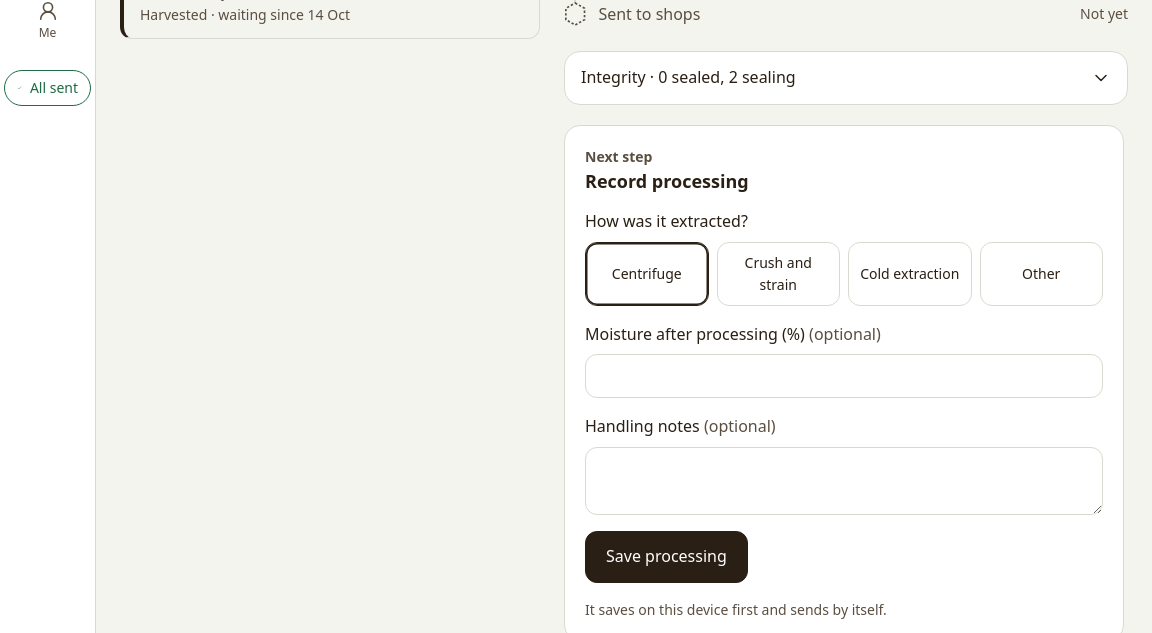
The next step, as the server allows it › an operator records processing, and the record names her
The image size is (1152, 633).
(page scrolled)
Expected: the heading "Record processing" is shown, x1=585 y1=169 x2=749 y2=193
Click the radio button labelled "Crush and strain" at (778, 274), box x1=716 y1=242 x2=840 y2=306
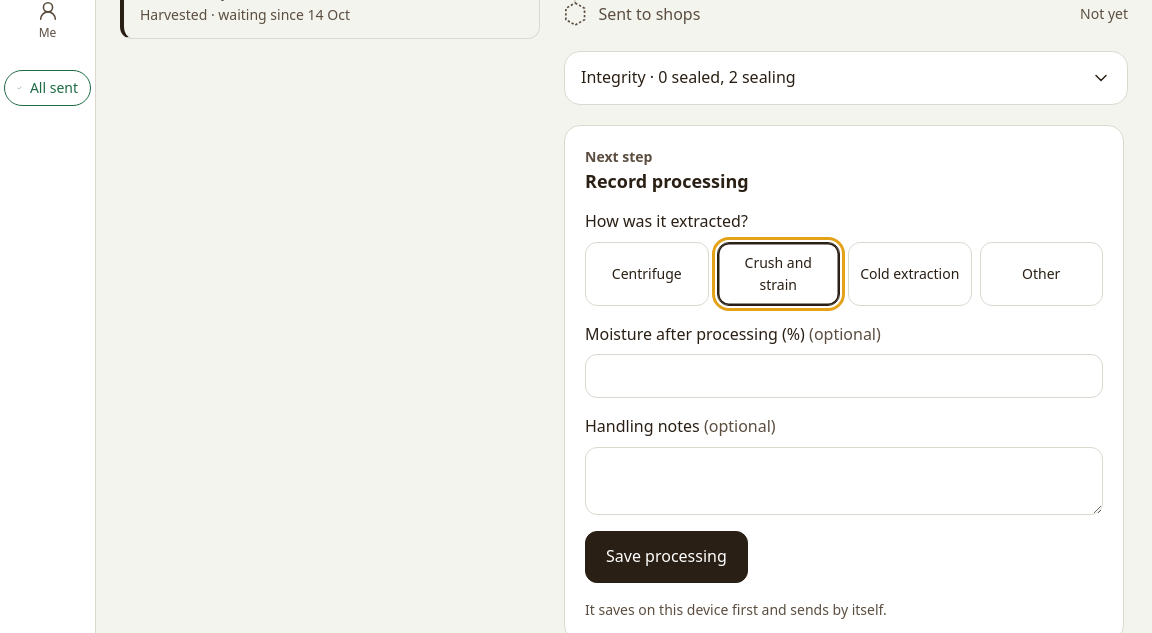
Type "17.8" into the field labelled "Moisture after processing (%) (optional)" at (844, 376), box x1=585 y1=354 x2=1103 y2=398
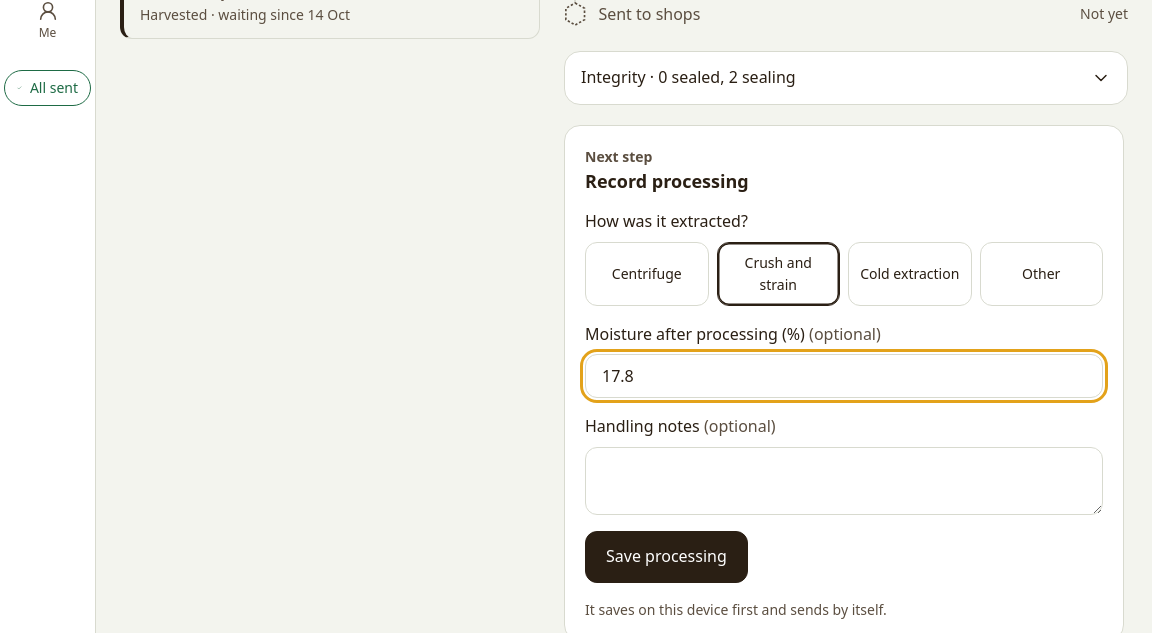
Type "Strained twice" into the text box labelled "Handling notes (optional)" at (844, 481), box x1=585 y1=447 x2=1103 y2=515
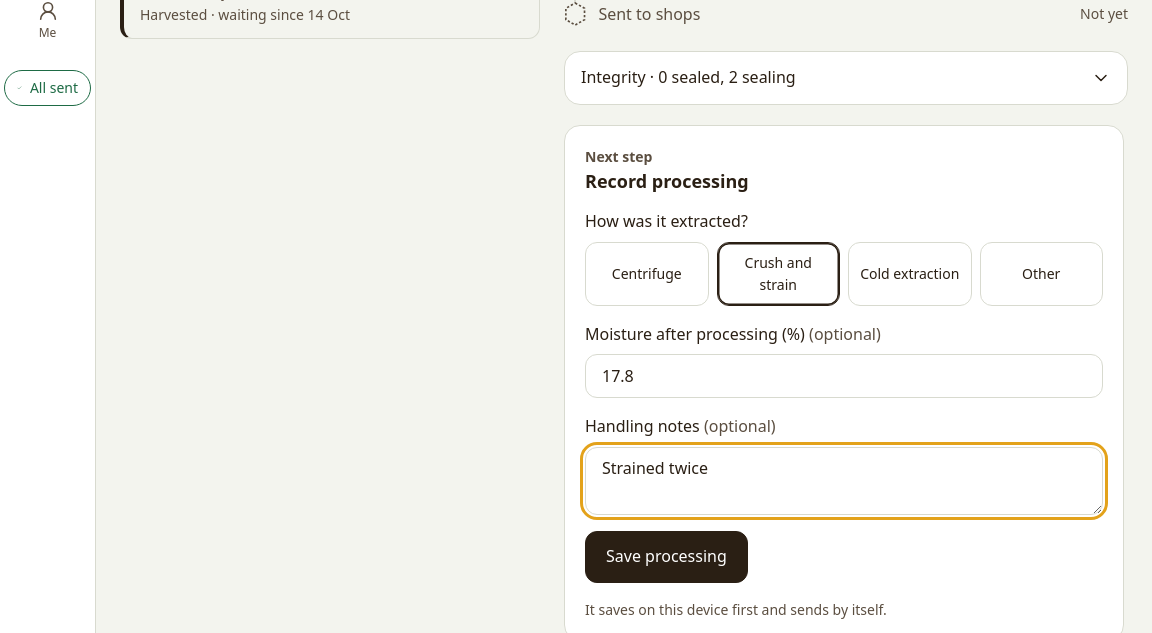
Click the button "Save processing" at (666, 557), box x1=585 y1=531 x2=748 y2=583
(page scrolled)
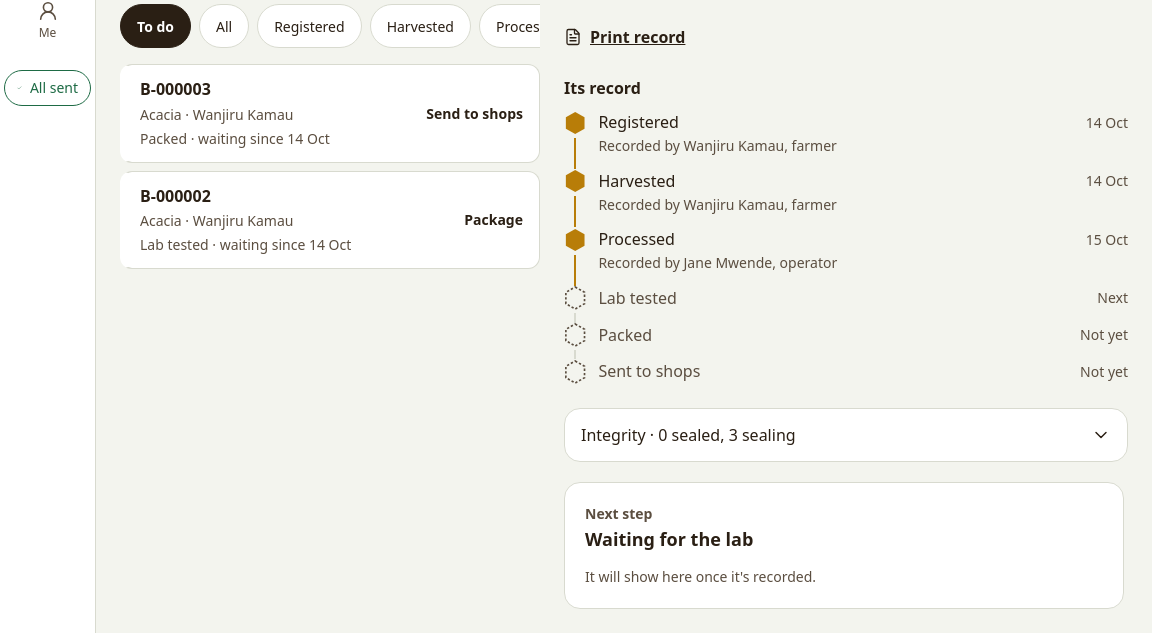
Now the text "Recorded by Jane Mwende, operator" is shown, box x1=598 y1=253 x2=837 y2=272
Now the heading "Waiting for the lab" is shown, box x1=585 y1=527 x2=753 y2=551
Now the button "Save processing" is gone
